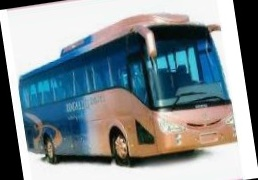bus: (12, 6, 239, 180)
